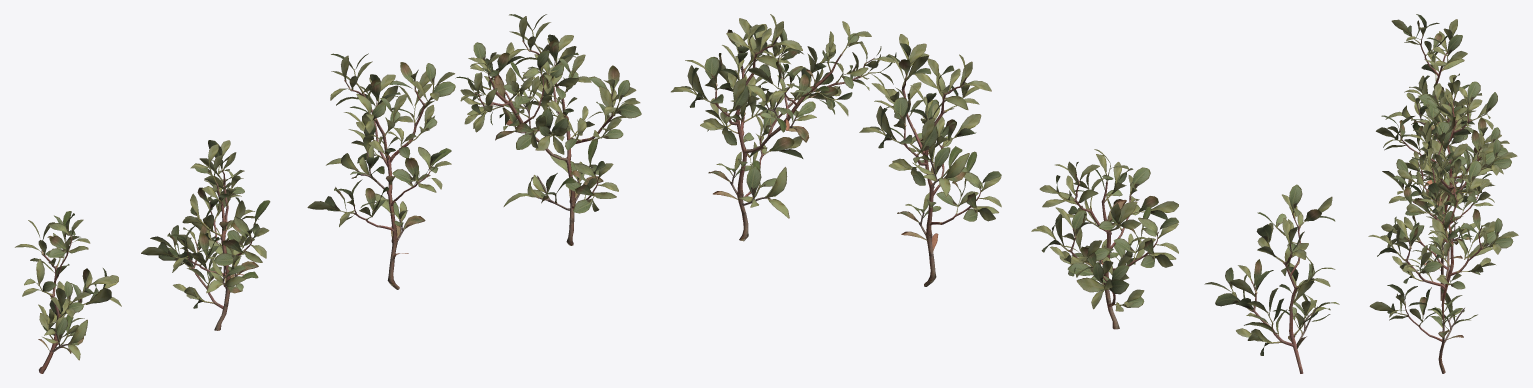
File: Shrub_04.glb
3 renders of one model, left to right at view 1: azimuth 30°, elevation 25°; view 2: azimuth 150°, elevation 25°; view 3: azimuth 270°, elevation 25°, orthographic. The views are drawn at different scales.
Visible parts, largest first — view 1: shrub_04; view 2: shrub_04; view 3: shrub_04.
Boxes of the visible parts, x1,y1,x2,y2 form: shrub_04: [15, 14, 641, 373]; shrub_04: [671, 14, 1339, 373]; shrub_04: [1368, 14, 1518, 373].
Size of the model in its own units: 0.5837 by 0.2192 by 0.1461.
Materials: 1 (1 with a texture image).
